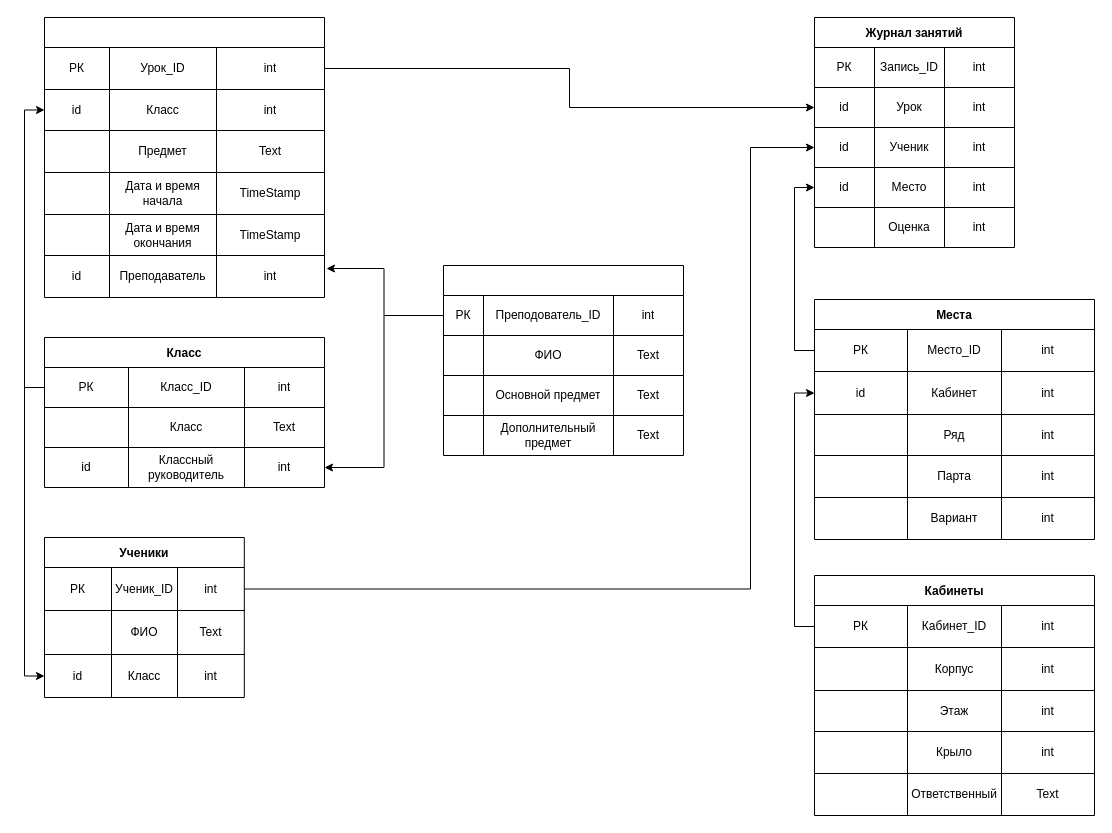
The diagram is 1112 pixels wide and 833 high, and some of its shapes have lost their labels. The box of each missing label's shape, as (x1, y1, x2, y2) in pixels:
Преподавательский состав: (442, 264, 684, 456)
Расписание: (44, 16, 324, 298)
